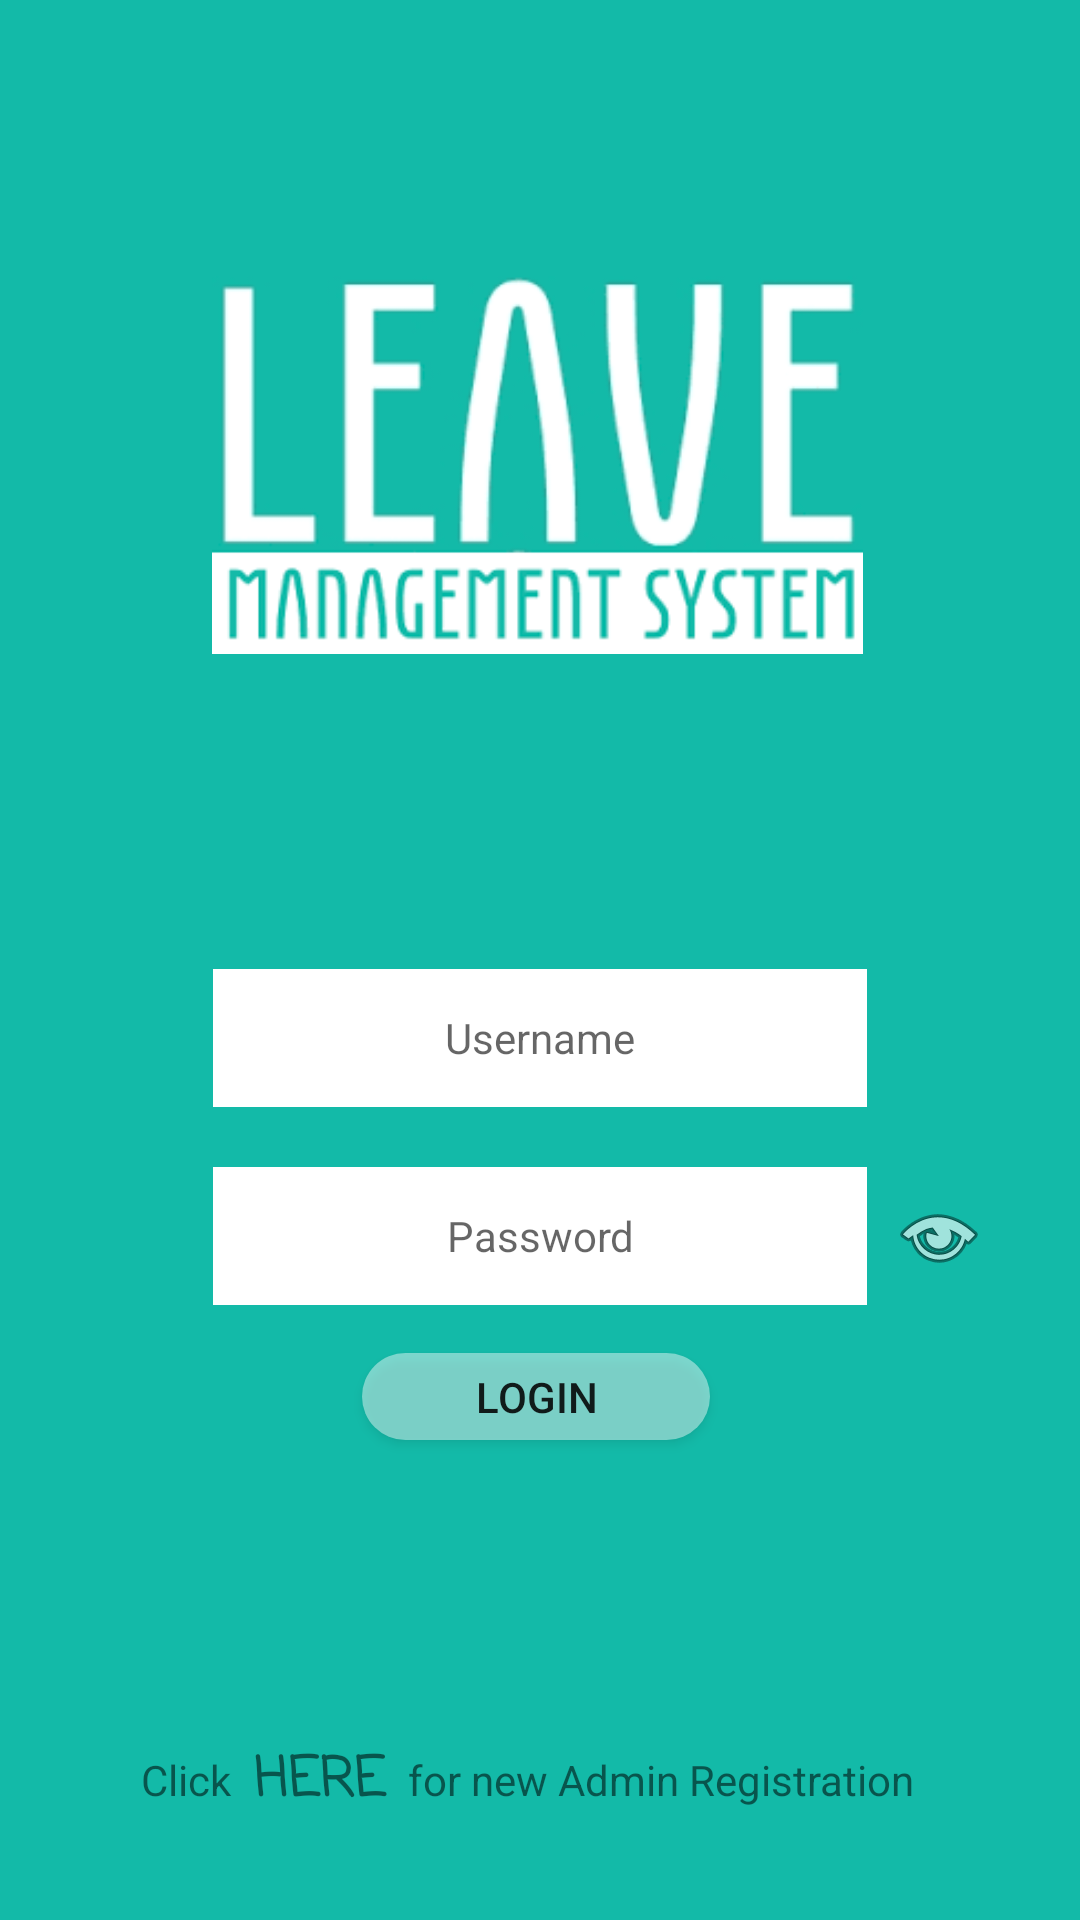

Named icons in this screenshot (1080x1920) and their bounding boxes, (x1, y1, x2, y2):
view: (900, 1214, 978, 1263)
